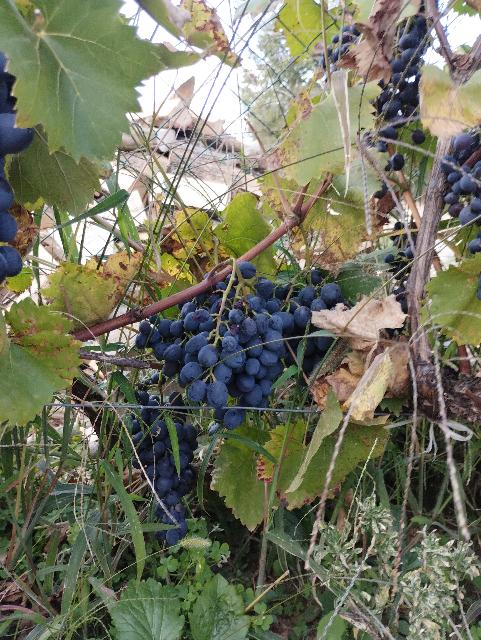grapes: (136, 262, 291, 430), (132, 391, 199, 545)
